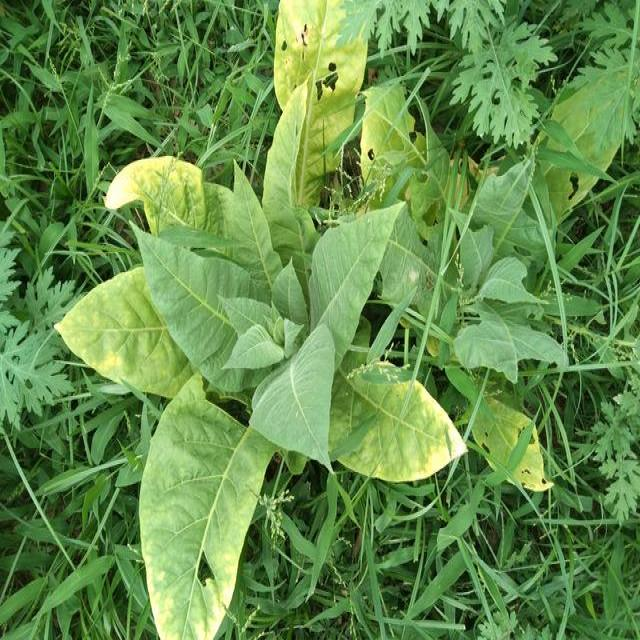crop: (58, 81, 463, 630)
